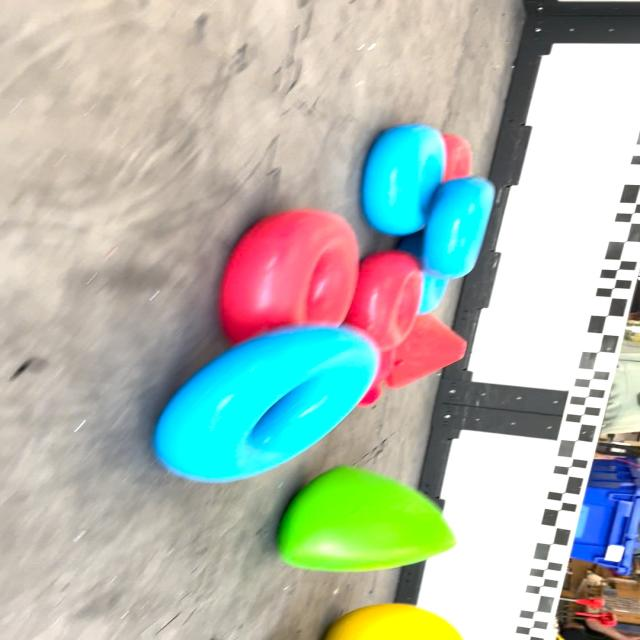Blue-Ring: (156, 326, 378, 482), (362, 124, 447, 235), (422, 178, 493, 279)
Red-Ring: (220, 209, 358, 342), (344, 250, 422, 352)
